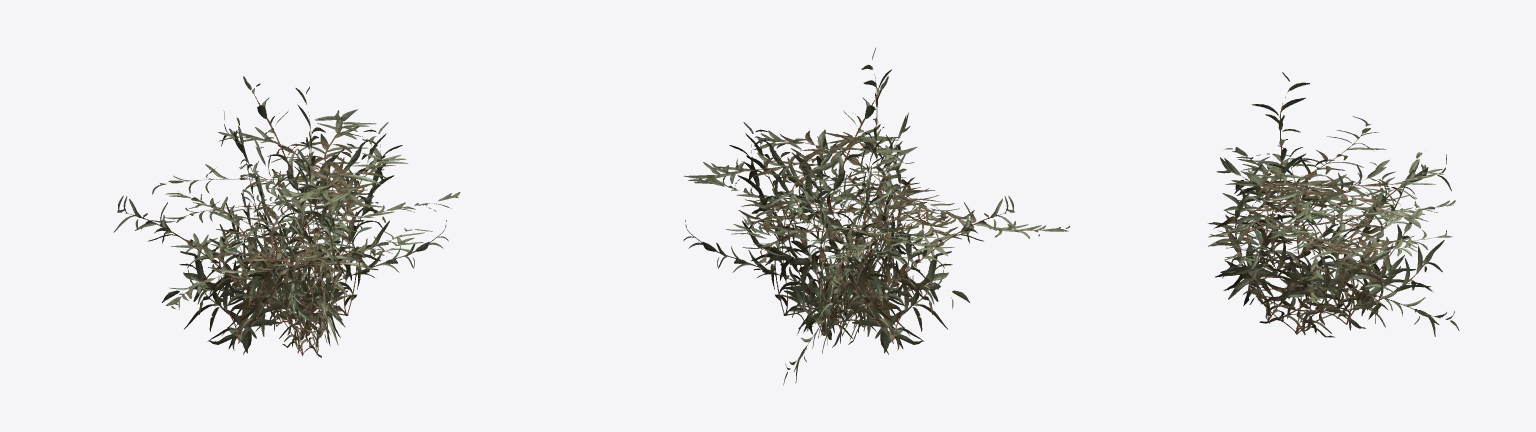
The model's file is shrub.glb.
3 renders of one model, left to right at view 1: azimuth 30°, elevation 25°; view 2: azimuth 150°, elevation 25°; view 3: azimuth 270°, elevation 25°, orthographic. The views are drawn at different scales.
Visible parts, largest first — view 1: shrub_2, shrub_0, shrub_1, shrub_3; view 2: shrub_0, shrub_2, shrub_1, shrub_3; view 3: shrub_0, shrub_2, shrub_1, shrub_3.
Boxes of the visible parts, x1,y1,x2,y2 form: shrub_2: [113, 137, 460, 353]; shrub_0: [152, 76, 408, 357]; shrub_1: [171, 110, 432, 354]; shrub_3: [150, 137, 384, 354]; shrub_0: [683, 47, 969, 353]; shrub_2: [683, 112, 1070, 385]; shrub_1: [742, 148, 961, 354]; shrub_3: [726, 122, 948, 347]; shrub_0: [1225, 72, 1444, 337]; shrub_2: [1208, 147, 1459, 336]; shrub_1: [1215, 154, 1452, 334]; shrub_3: [1249, 145, 1418, 335].
Size of the model in its own units: 2.18 by 1.71 by 2.18.
8 materials, 8 textured.
